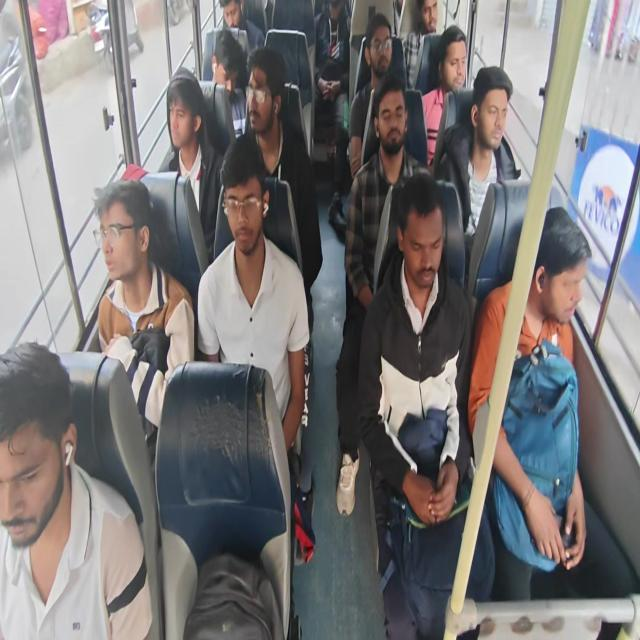person: (0, 365, 70, 514), (533, 203, 593, 328), (386, 187, 446, 295), (86, 180, 140, 273), (223, 157, 266, 235)
